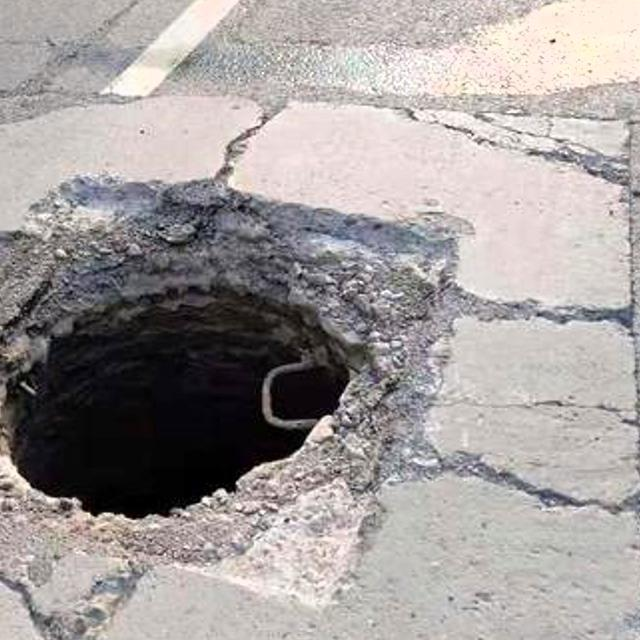lose: (0, 144, 485, 640)
